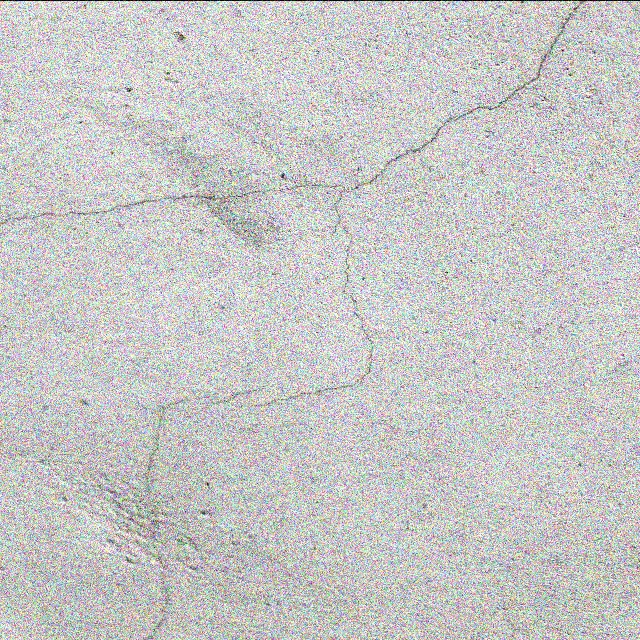SurfaceCrack: (300, 2, 638, 242)
